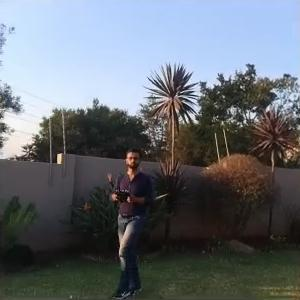follow: (99, 142, 158, 298)
